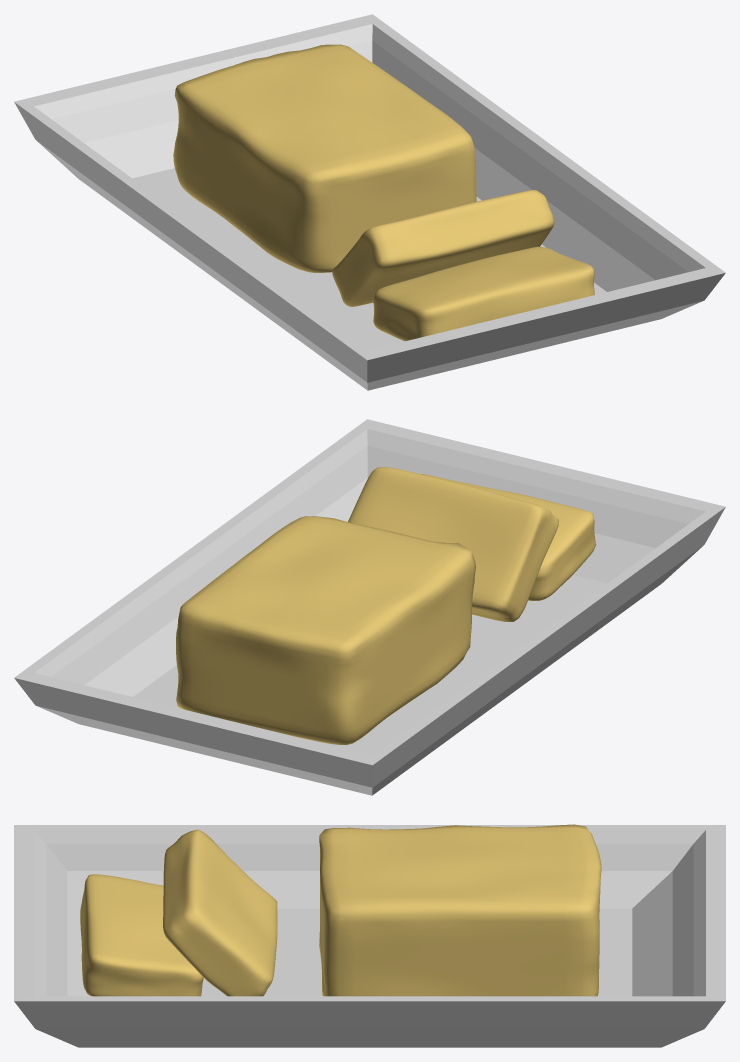
Rendered from butter_block.glb.
3 views of the same model, one above another, from view 1: azimuth 30°, elevation 25°; view 2: azimuth 150°, elevation 25°; view 3: azimuth 270°, elevation 25° (orthographic).
Parts seen in each view (by area): view 1: Cube.005, Cube.006, Cube.007, Cube.008; view 2: Cube.005, Cube.006, Cube.007, Cube.008; view 3: Cube.005, Cube.006, Cube.007, Cube.008.
Part boxes in pixels (box(x1,y1,x2,y2)): Cube.005: box(14, 14, 725, 390); Cube.006: box(173, 44, 476, 272); Cube.007: box(332, 190, 554, 306); Cube.008: box(373, 246, 594, 341); Cube.005: box(14, 419, 725, 795); Cube.006: box(176, 516, 475, 744); Cube.007: box(348, 467, 558, 621); Cube.008: box(421, 474, 596, 600); Cube.005: box(14, 825, 725, 1047); Cube.006: box(319, 824, 601, 996); Cube.007: box(163, 829, 277, 996); Cube.008: box(80, 874, 203, 996).
Bounding box in the file's own units: 1.85 × 0.5649 × 3.16.
